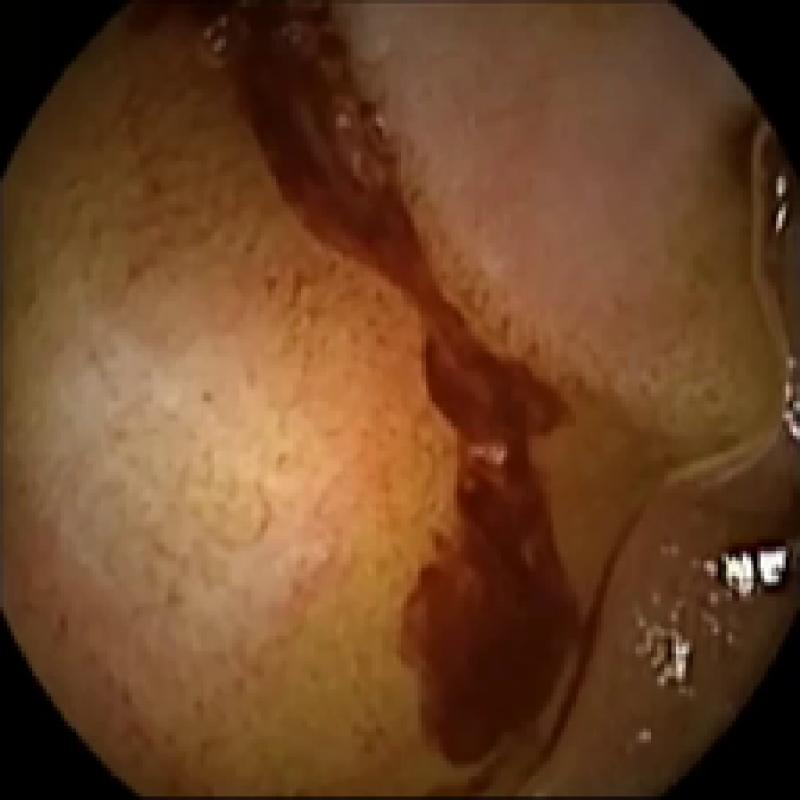bleeding: (132, 0, 639, 796)
